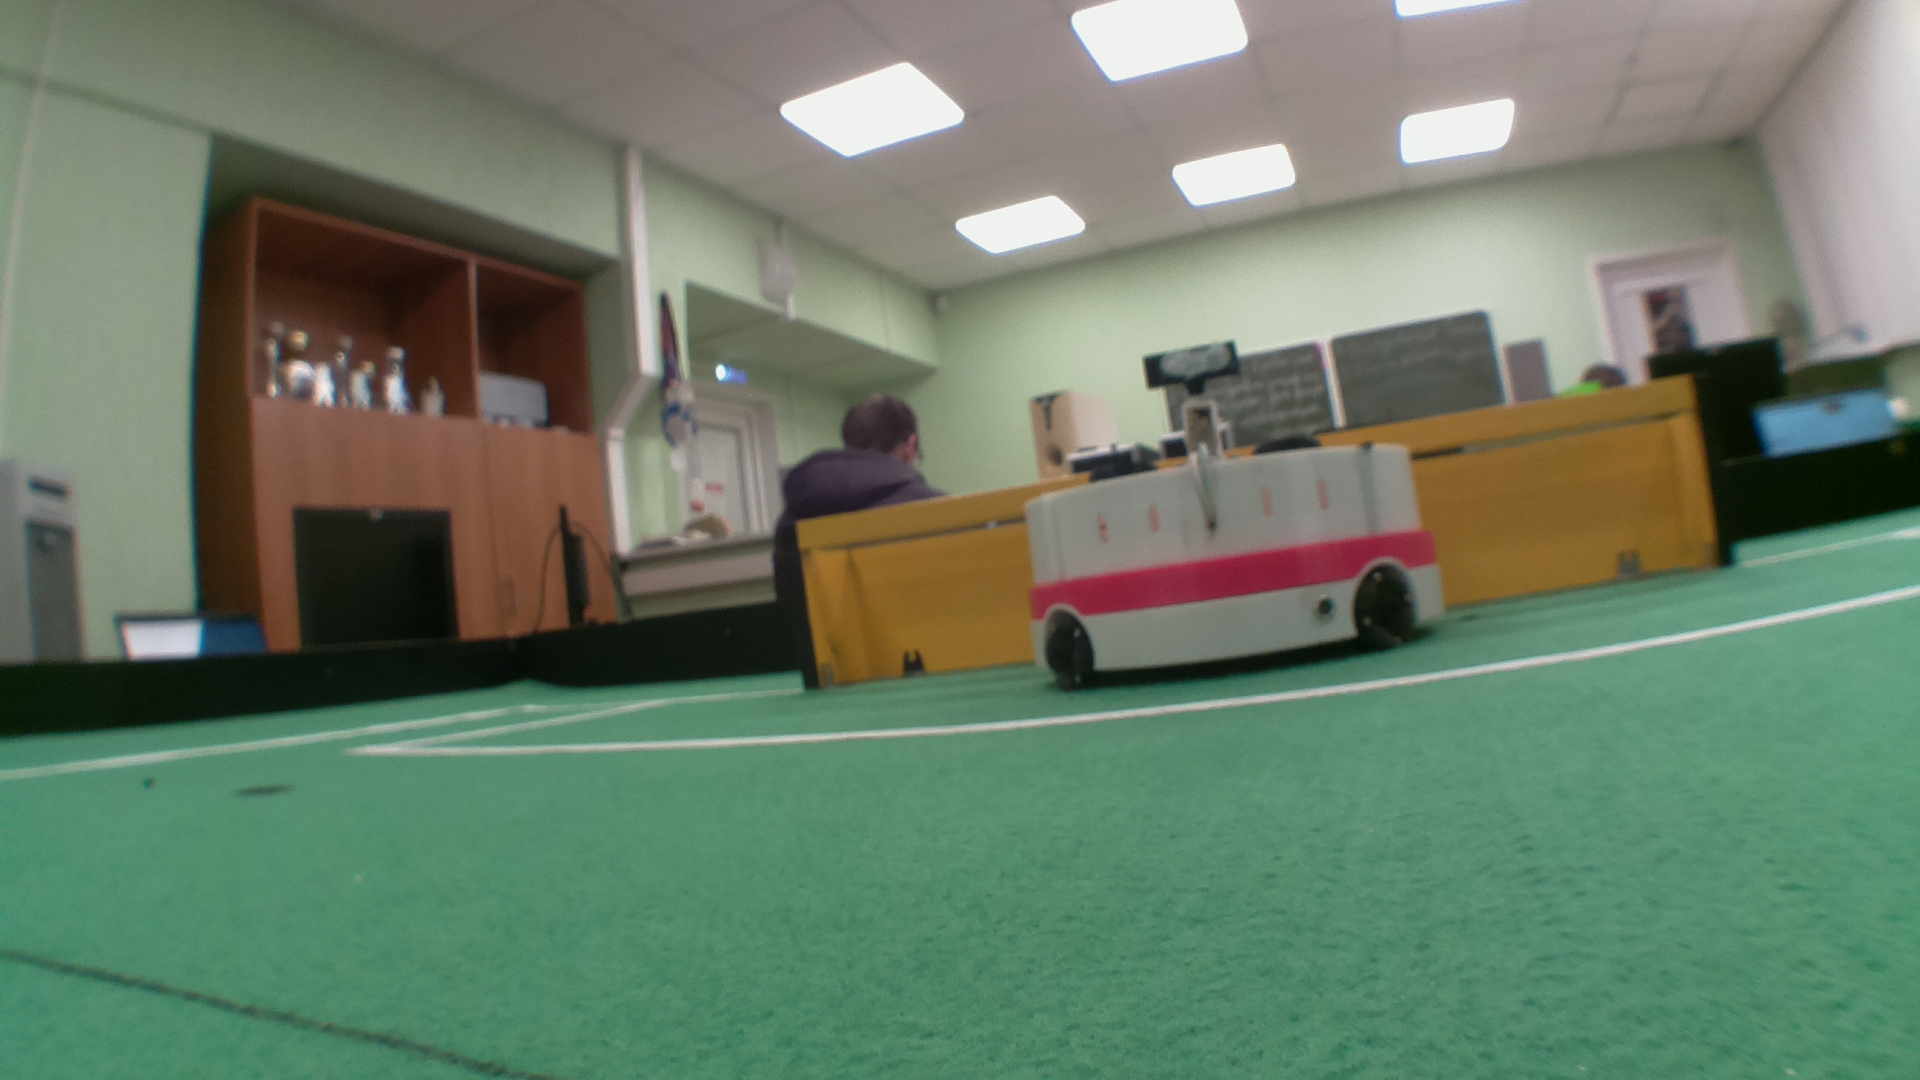YellowGoal: (796, 378, 1726, 680)
